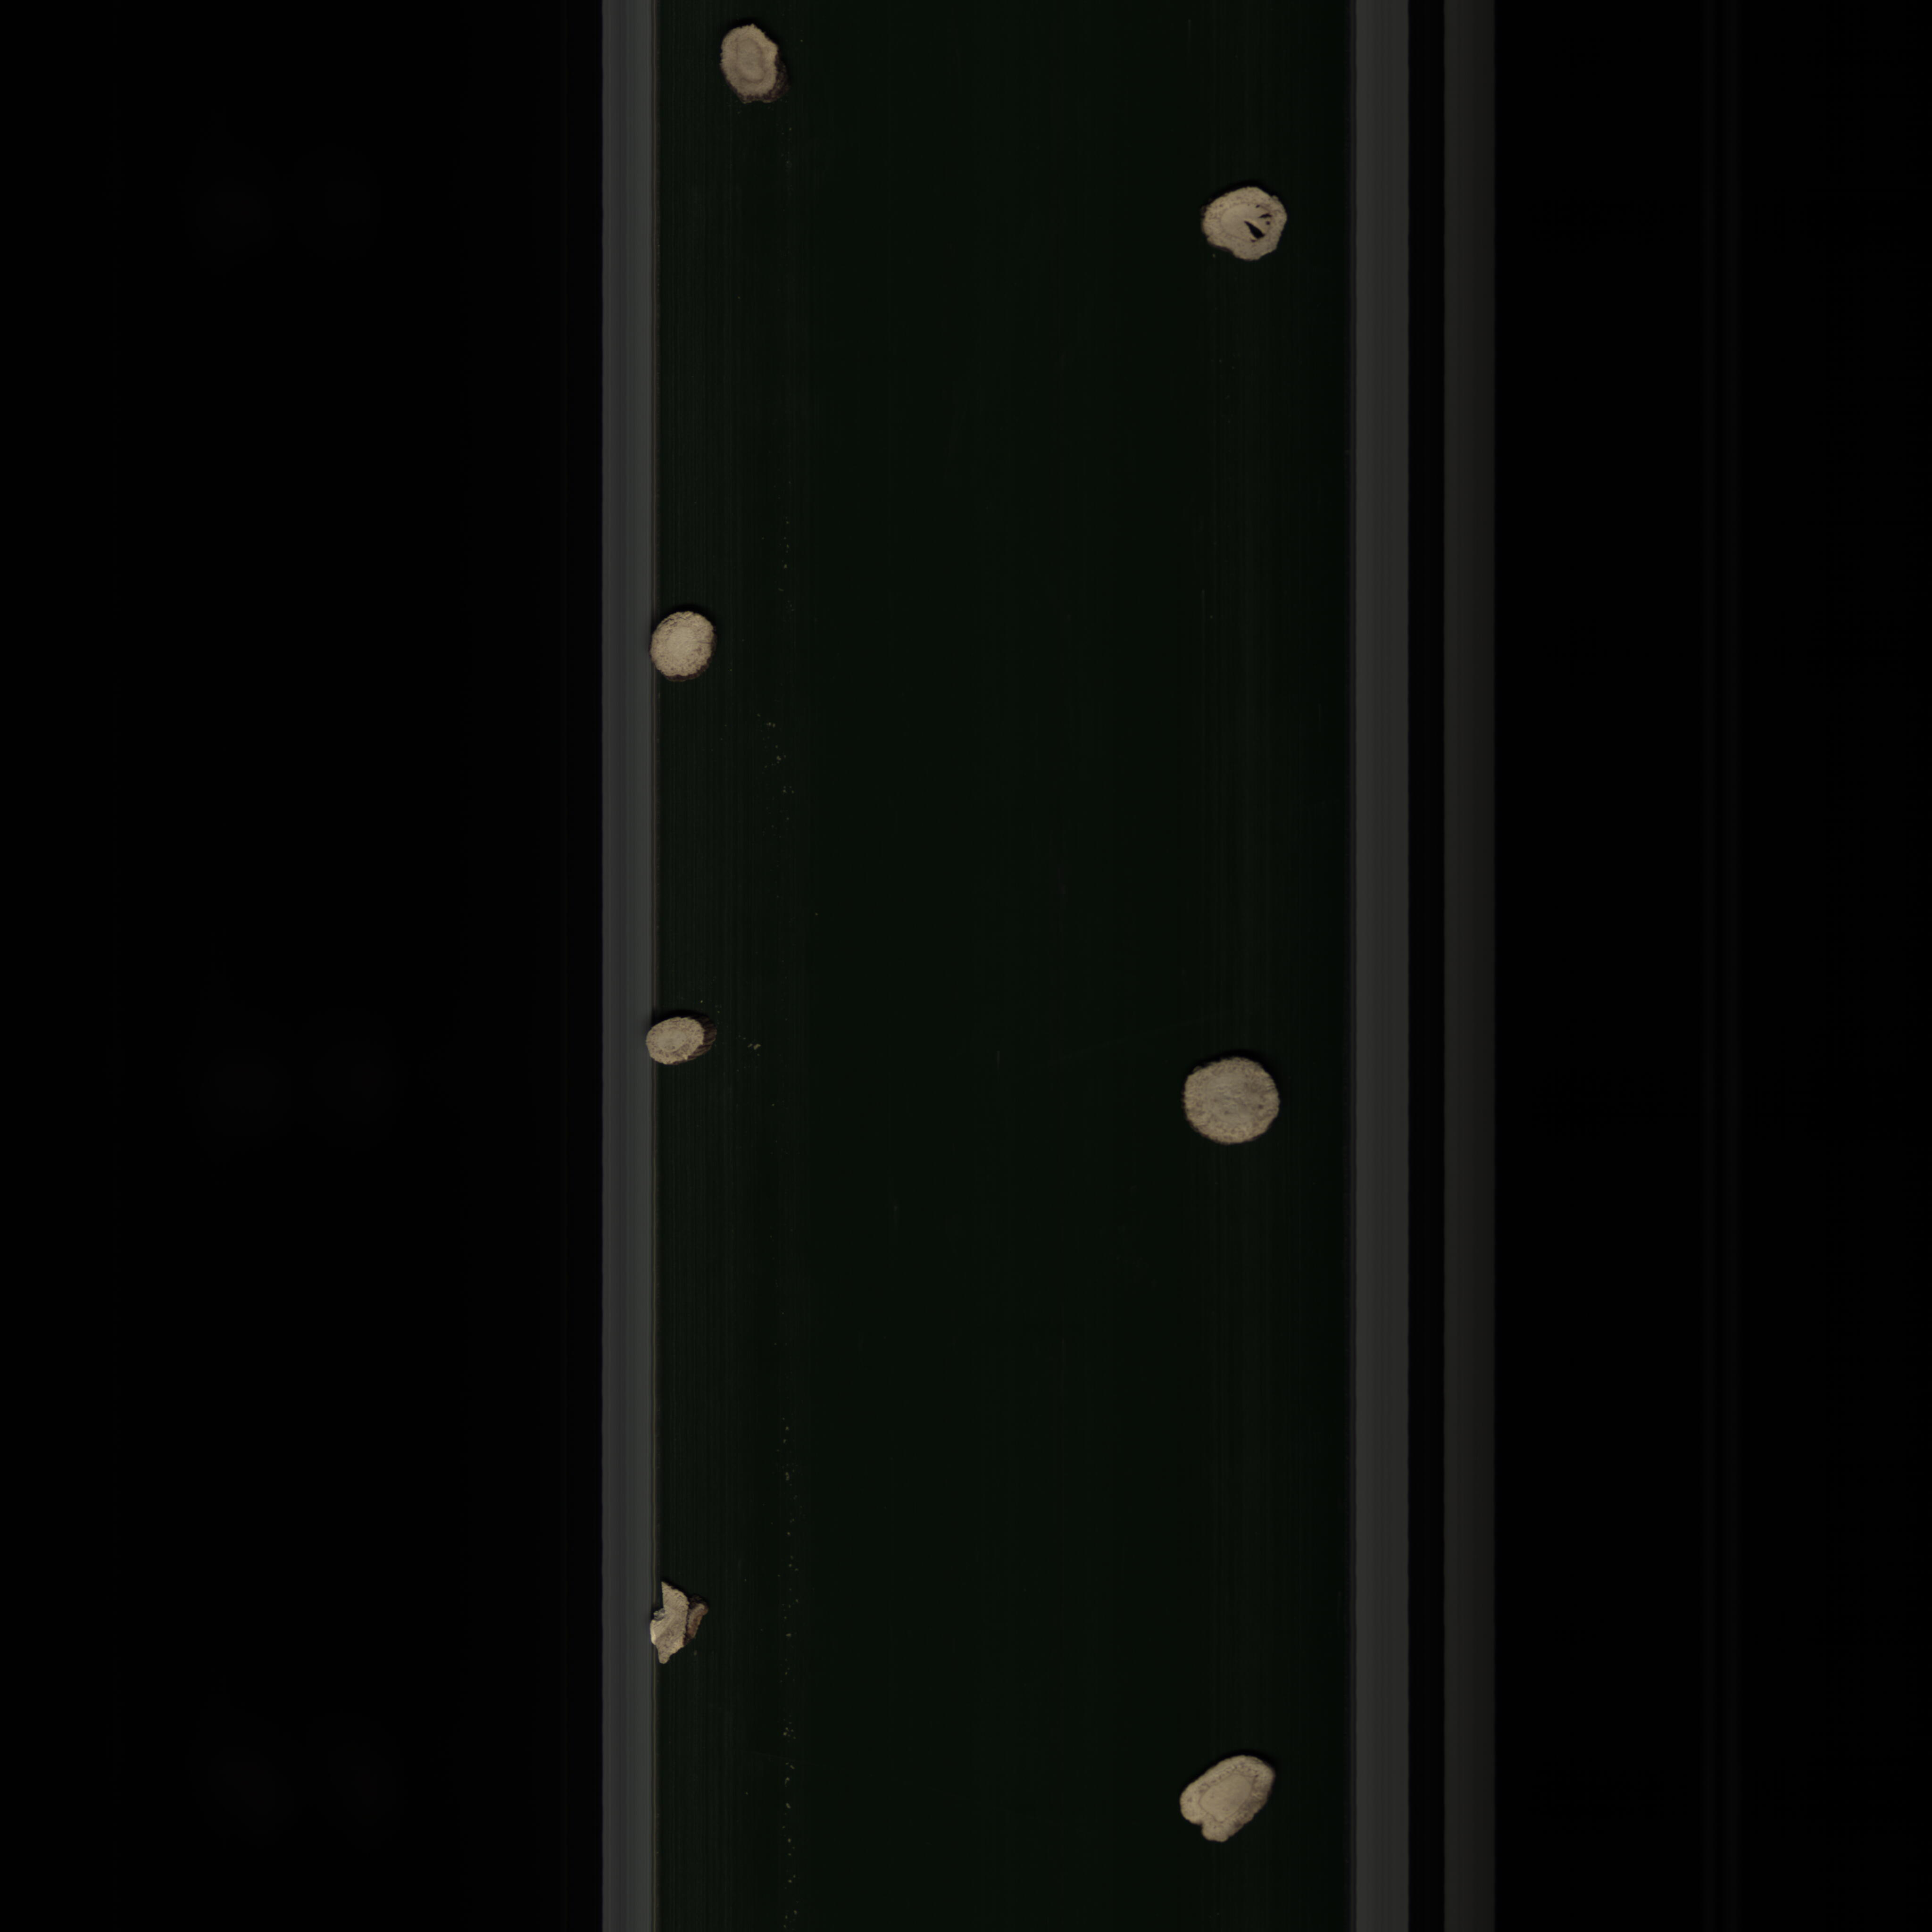debris: (1171, 1746, 1288, 1844), (646, 1568, 709, 1677)
distortion: (715, 19, 784, 111)
hole: (1191, 180, 1295, 267)
